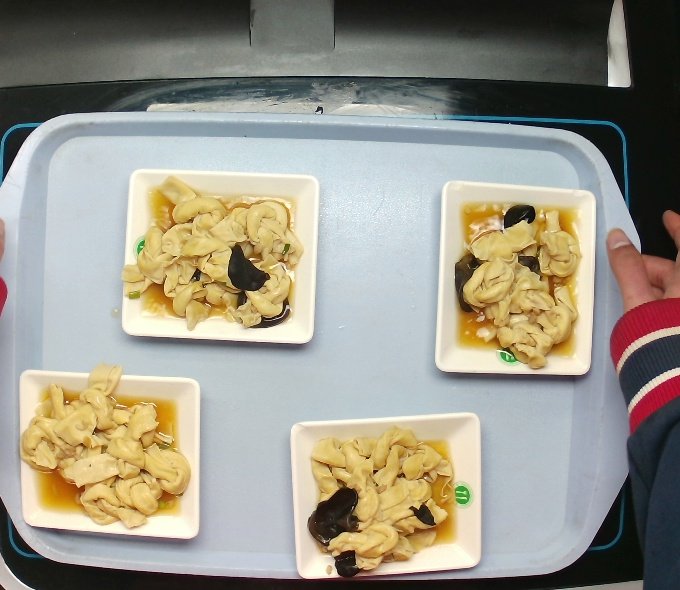wcq-QianZhangJie: (24, 364, 188, 535), (125, 185, 301, 332), (310, 430, 455, 577), (447, 205, 586, 358)
